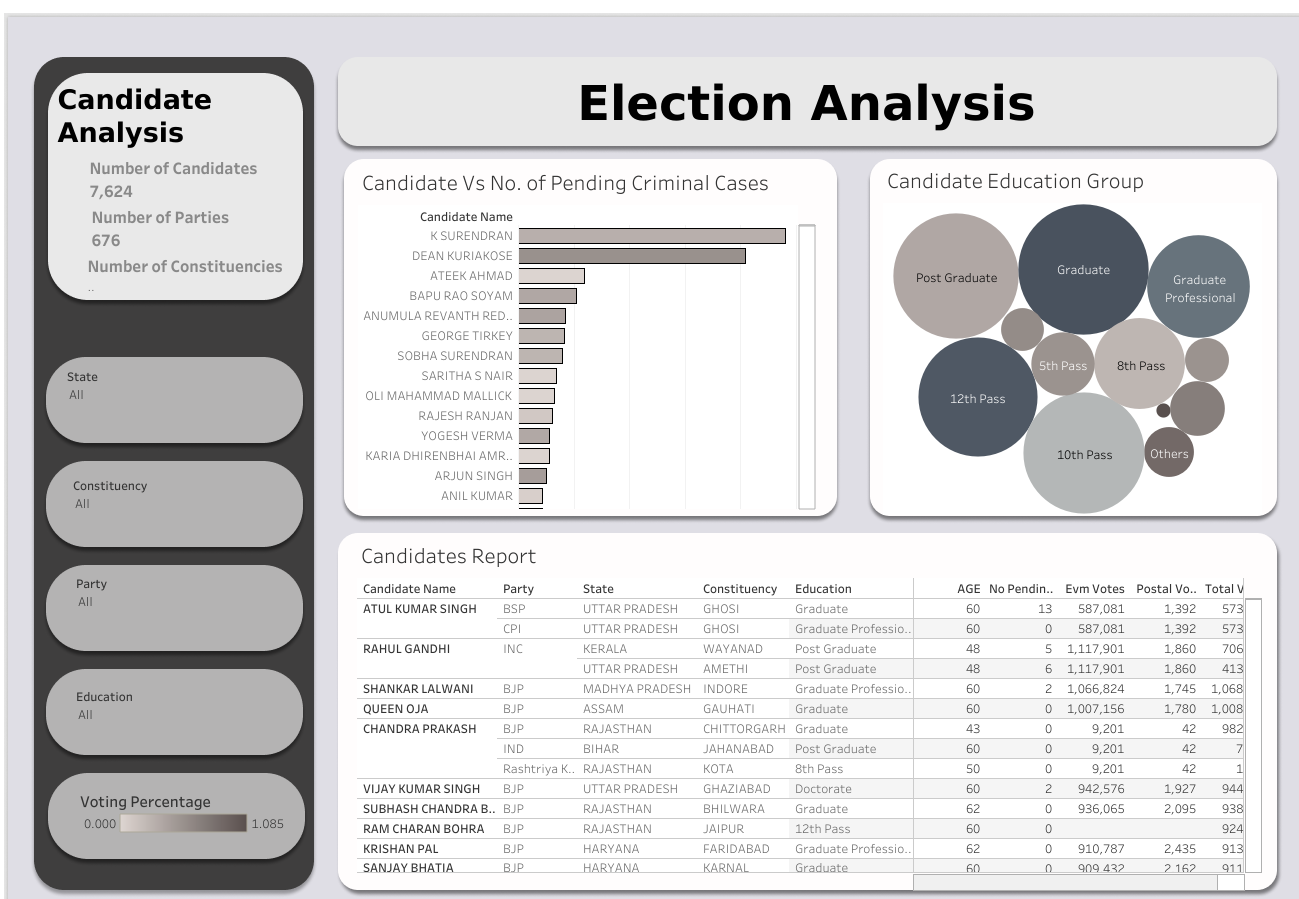

This screenshot's page, from the dashboard's own definition file:
{"tool":"tableau","page":{"name":"Candidate Analysis","canvas":[1300,900],"ordinal":0},"visuals":[{"type":"worksheet","box":[0,0,1300,900]},{"type":"worksheet","param":"vert","box":[8,8,1284,884]},{"type":"worksheet","box":[8,8,1284,884]},{"type":"worksheet","box":[349,67,915,72]},{"type":"worksheet","box":[55,78,244,75]},{"type":"worksheet","box":[87,155,213,48]},{"type":"worksheet","title":"Candidate Education Group","mark":"Circle","box":[883,160,378,354]},{"type":"worksheet","title":"Candidate Vs No. of Pending Criminal Cases","mark":"Automatic","rows":["CANDIDATE_NAME"],"cols":["NO_PENDING_CRIMINAL_CASES"],"box":[358,162,458,347]},{"type":"worksheet","box":[89,203,183,49]},{"type":"worksheet","box":[85,252,201,44]},{"type":"worksheet","title":"Candidates Report","mark":"Automatic","rows":["CANDIDATE_NAME","PARTY","STATE","CONSTITUENCY","EDUCATION"],"param":"[federated.03wtox413rziv816c25zp0kh4i3t].[none:STATE:nk]","box":[67,366,206,65]},{"type":"worksheet","title":"Candidates Report","mark":"Automatic","rows":["CANDIDATE_NAME","PARTY","STATE","CONSTITUENCY","EDUCATION"],"param":"[federated.03wtox413rziv816c25zp0kh4i3t].[none:CONSTITUENCY:nk]","box":[73,475,207,63]},{"type":"worksheet","title":"Candidates Report","mark":"Automatic","rows":["CANDIDATE_NAME","PARTY","STATE","CONSTITUENCY","EDUCATION"],"box":[357,535,905,356]},{"type":"worksheet","title":"Candidates Report","mark":"Automatic","rows":["CANDIDATE_NAME","PARTY","STATE","CONSTITUENCY","EDUCATION"],"param":"[federated.03wtox413rziv816c25zp0kh4i3t].[none:PARTY:nk]","box":[76,573,201,72]},{"type":"worksheet","title":"Candidates Report","mark":"Automatic","rows":["CANDIDATE_NAME","PARTY","STATE","CONSTITUENCY","EDUCATION"],"param":"[federated.03wtox413rziv816c25zp0kh4i3t].[none:EDUCATION:nk]","box":[76,686,197,54]},{"type":"worksheet","title":"Candidate Vs No. of Pending Criminal Cases","mark":"Automatic","rows":["CANDIDATE_NAME"],"cols":["NO_PENDING_CRIMINAL_CASES"],"param":"[federated.03wtox413rziv816c25zp0kh4i3t].[sum:VOTING_PERCENTAGE:qk]","box":[80,786,209,73]}]}

Visuals, with their boxes in screenshot pixels (x1, y1, x2, y2), scaled from the page's 1300x900 canvas onto the 1299x899 screenshot:
worksheet: box(0, 0, 1298, 898)
worksheet: box(8, 8, 1291, 891)
worksheet: box(8, 8, 1291, 891)
worksheet: box(349, 67, 1263, 139)
worksheet: box(55, 78, 299, 153)
worksheet: box(87, 155, 300, 203)
"Candidate Education Group" worksheet (Circle marks): box(882, 160, 1260, 513)
"Candidate Vs No. of Pending Criminal Cases" worksheet: box(358, 162, 815, 508)
worksheet: box(89, 203, 272, 252)
worksheet: box(85, 252, 286, 296)
"Candidates Report" worksheet: box(67, 366, 273, 431)
"Candidates Report" worksheet: box(73, 474, 280, 537)
"Candidates Report" worksheet: box(357, 534, 1261, 890)
"Candidates Report" worksheet: box(76, 572, 277, 644)
"Candidates Report" worksheet: box(76, 685, 273, 739)
"Candidate Vs No. of Pending Criminal Cases" worksheet: box(80, 785, 289, 858)
